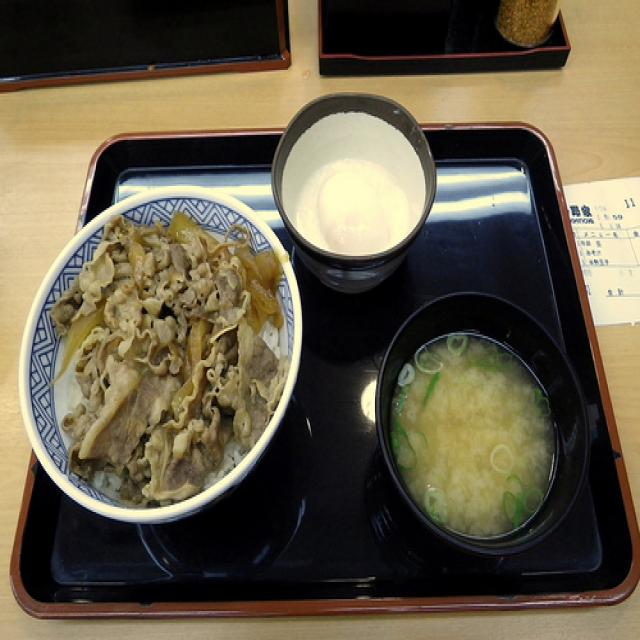汤锅炖物: (370, 285, 589, 560)
